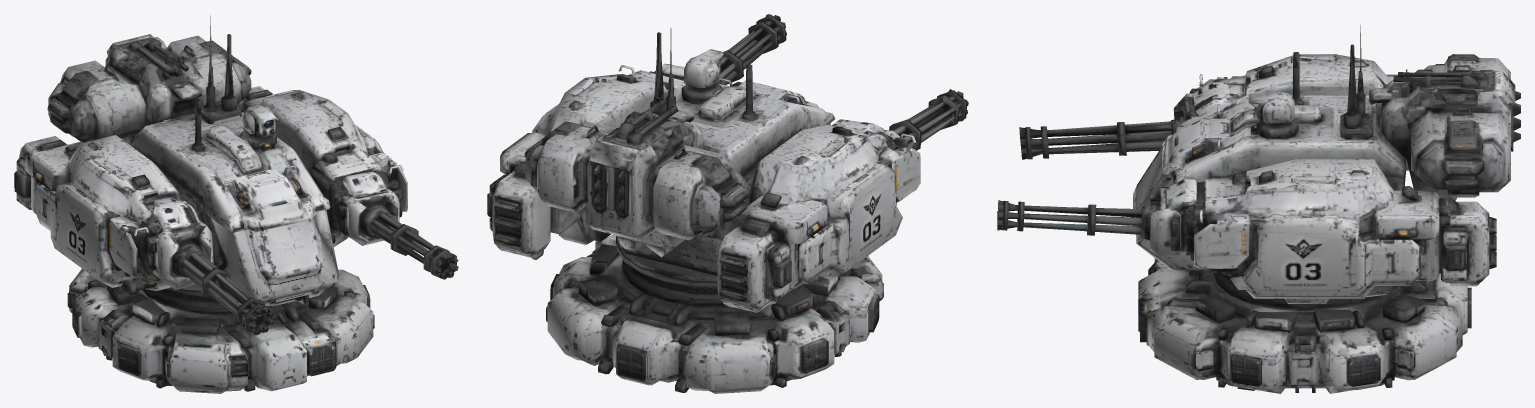
The model's file is u_sung_may_doi.glb.
3 renders of one model, left to right at view 1: azimuth 30°, elevation 25°; view 2: azimuth 150°, elevation 25°; view 3: azimuth 270°, elevation 25°, orthographic. The views are drawn at different scales.
Visible parts, largest first — view 1: u_sung_may_doi; view 2: u_sung_may_doi; view 3: u_sung_may_doi.
Boxes of the visible parts, x1,y1,x2,y2 form: u_sung_may_doi: [14, 15, 458, 393]; u_sung_may_doi: [487, 14, 968, 393]; u_sung_may_doi: [997, 25, 1520, 393].
Size of the model in its own units: 5.37 by 5.5 by 7.76.
1 material, 1 textured.
